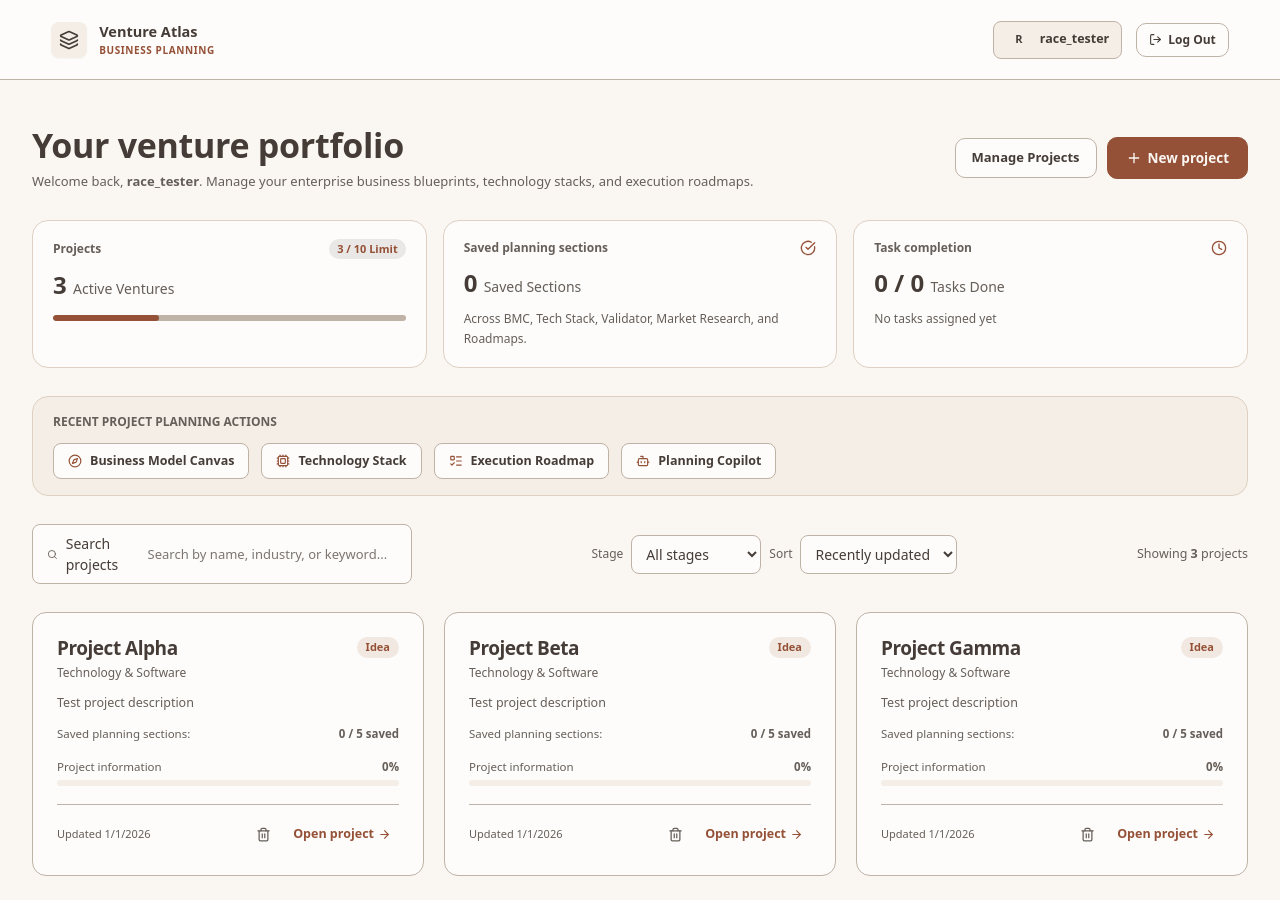
it: Batch 03: Security & Race-Condition Review Gate › 2. Navigation Race-Condition Protection › preserves latest destination when earlier requests resolve out-of-order and rejects stale errors
// Open Project Alpha
Click the heading "Project Alpha" at (117, 648), box [57,635,178,661]
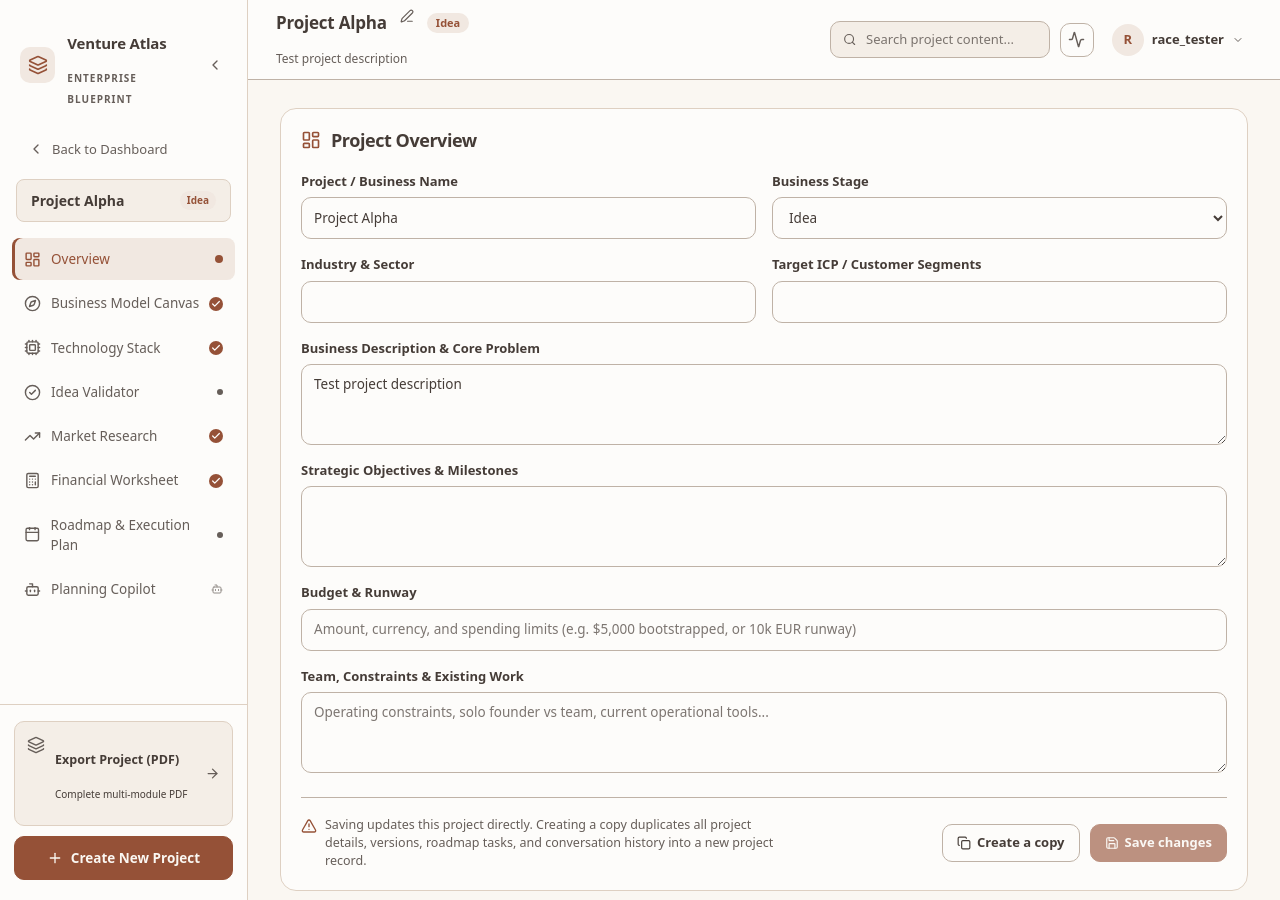
Expected: the text "Business Model Canvas" is shown, [51,293,199,314]
Click the button "Business Model Canvas" at (124, 304), box [12,282,235,325]
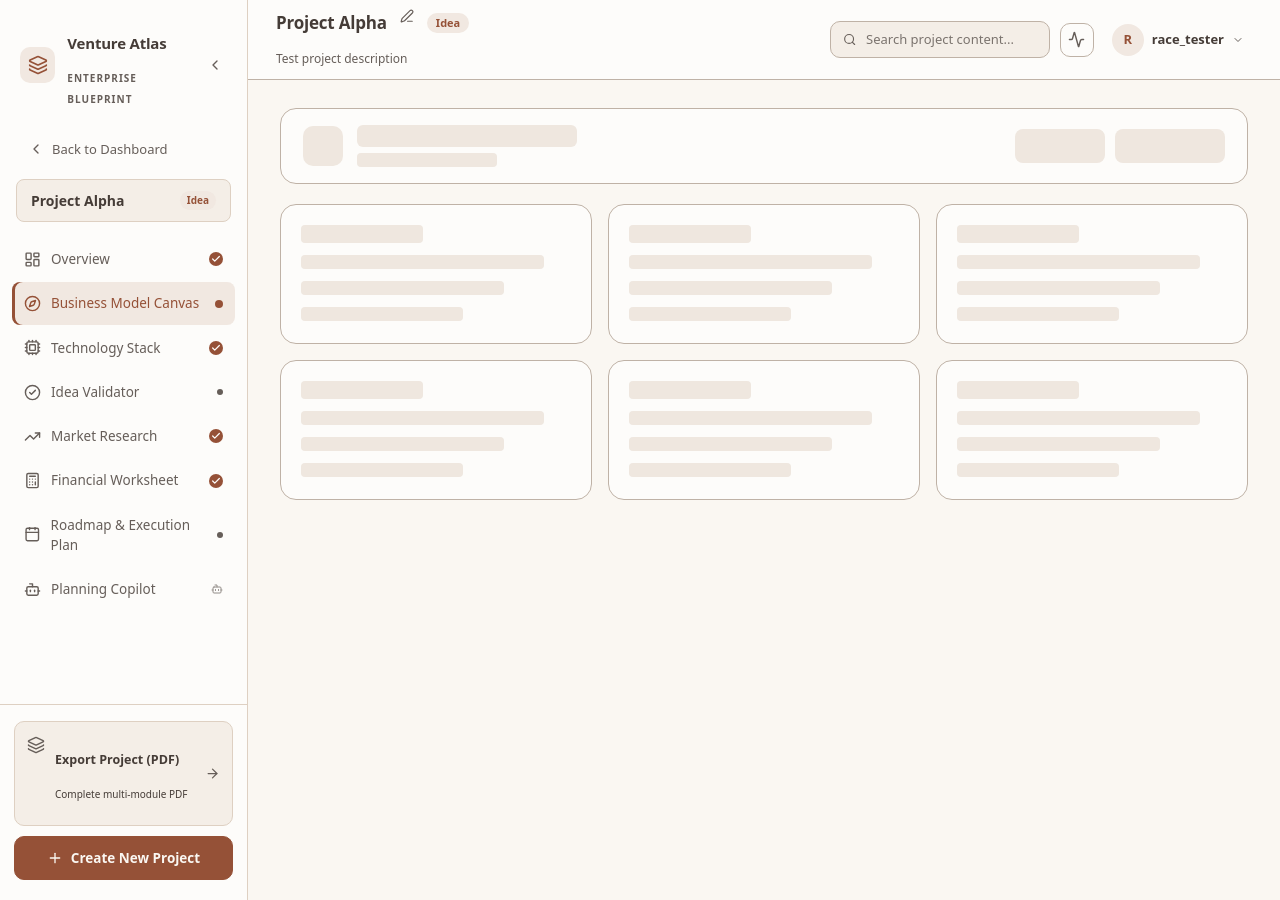
Click the button "Technology Stack" at (124, 348), box [12,327,235,369]
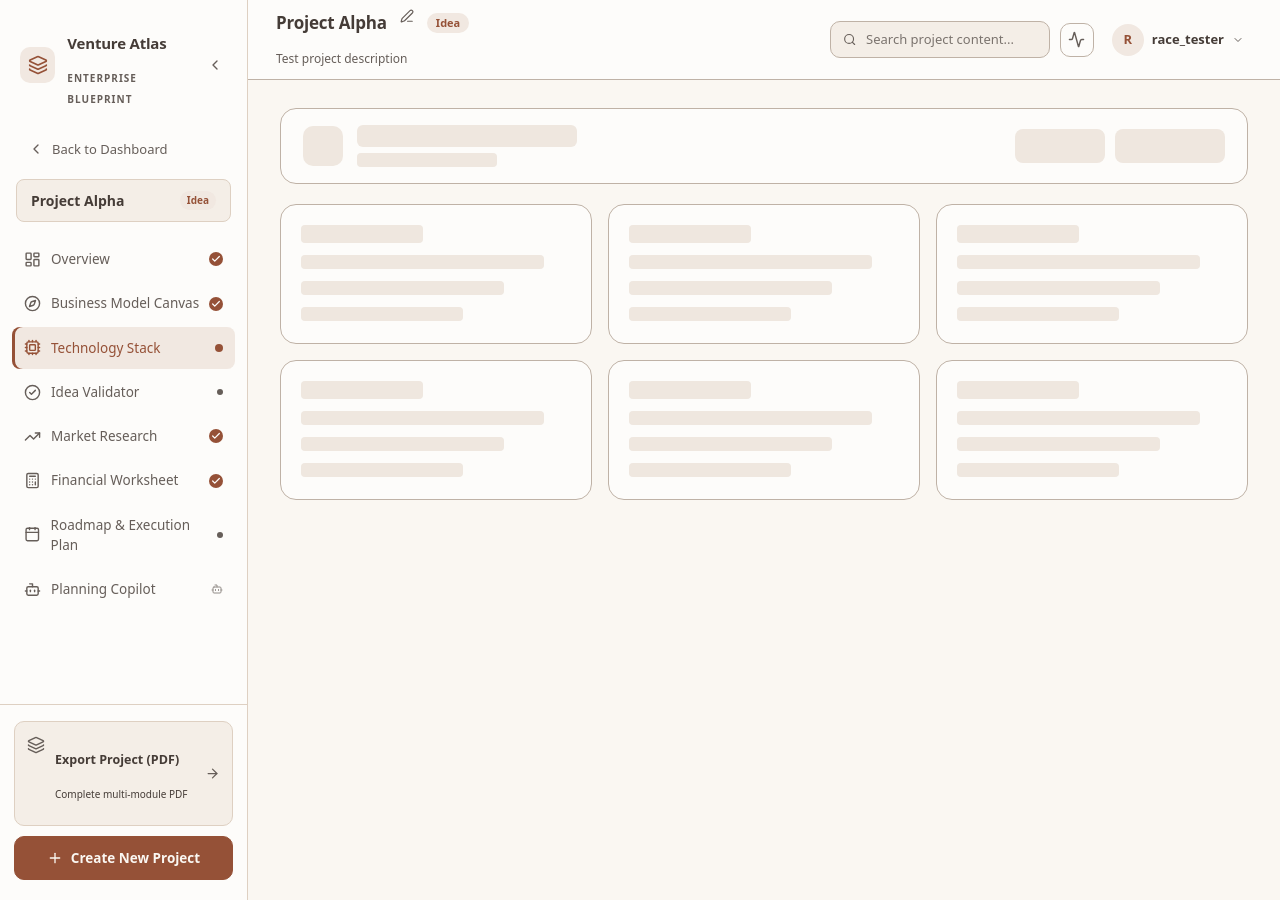
Click the button "Market Research" at (124, 436), box [12,415,235,457]
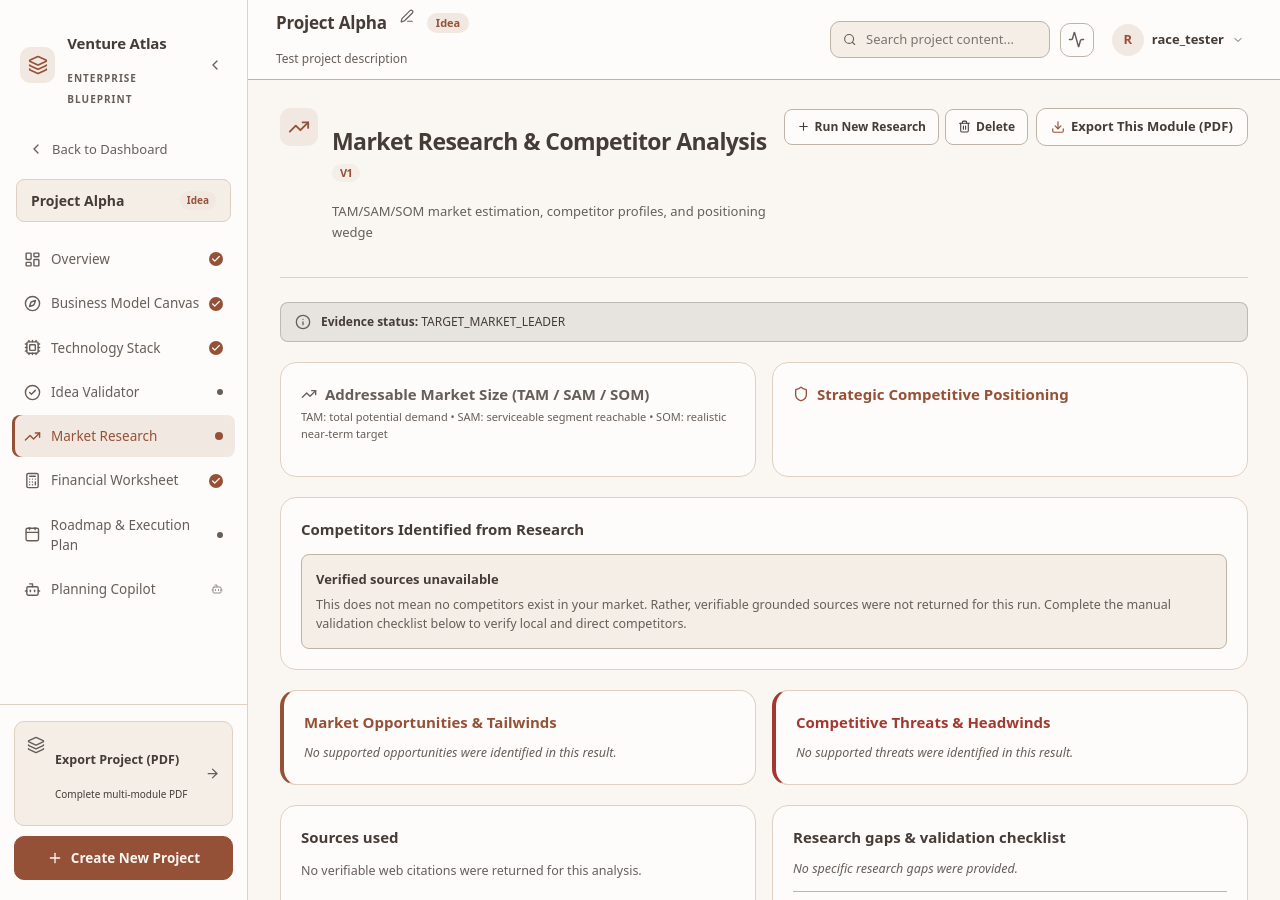
Expected: the text "TARGET_MARKET_LEADER" is shown, [421,312,565,330]
